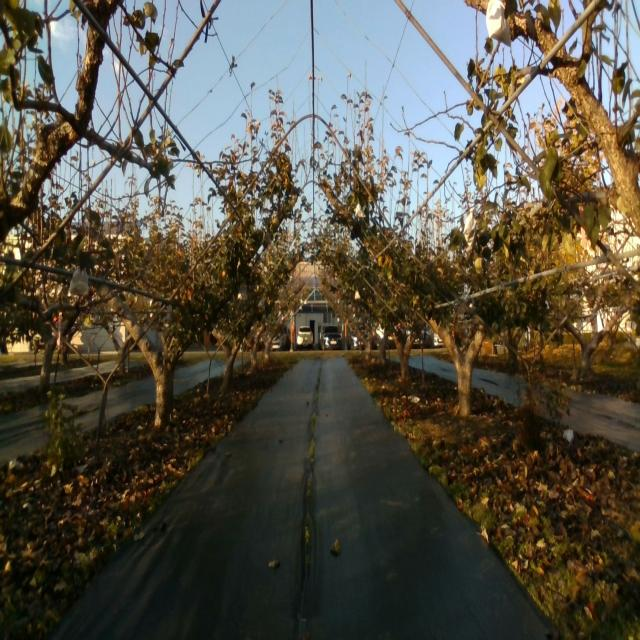pearbags: (485, 0, 512, 48), (67, 267, 89, 296), (463, 212, 477, 246)
